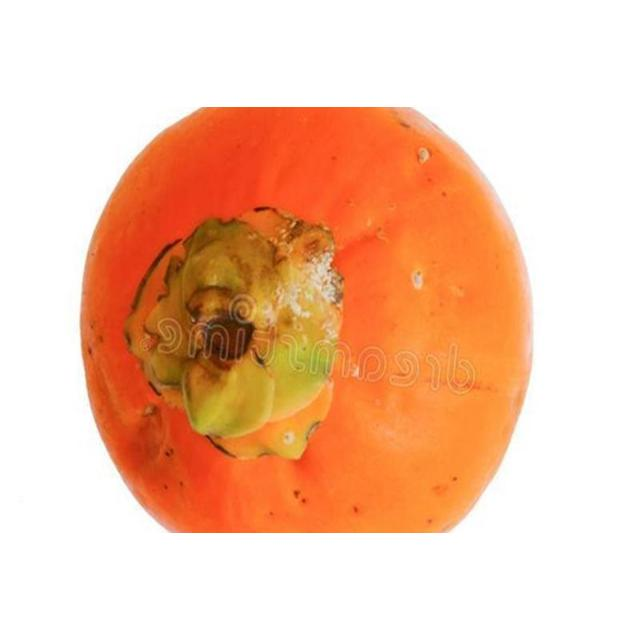good: (78, 107, 538, 533)
